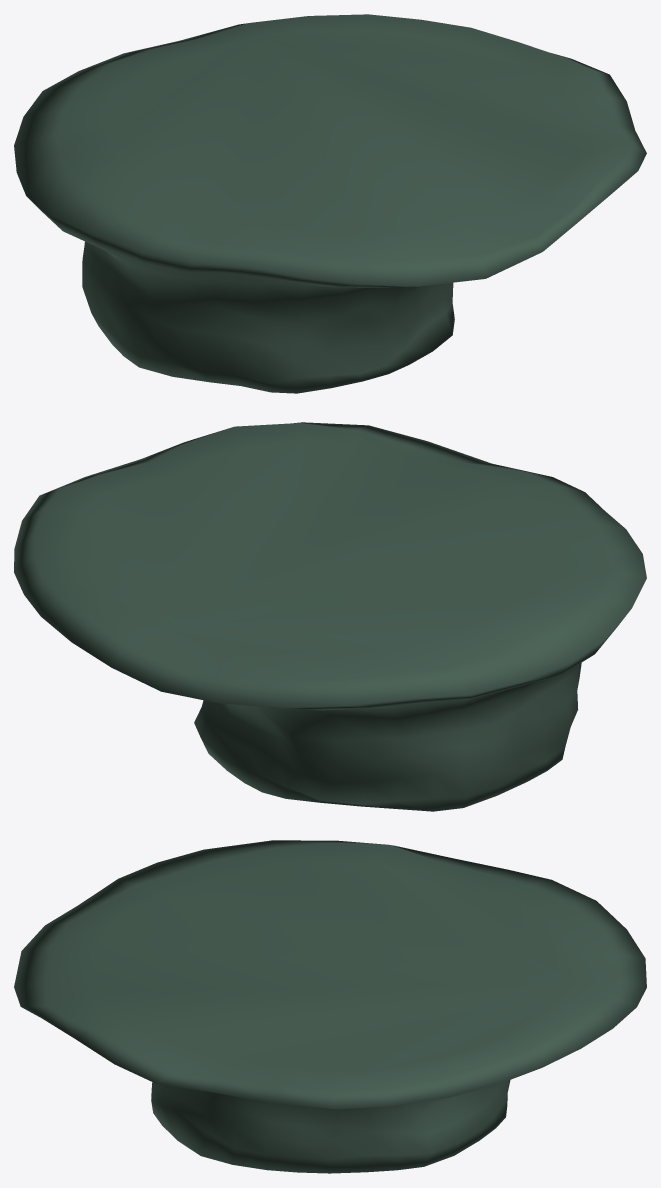
File: Sangosyou.fbx
3 views of the same model, one above another, from view 1: azimuth 30°, elevation 25°; view 2: azimuth 150°, elevation 25°; view 3: azimuth 270°, elevation 25° (orthographic).
Visible parts, largest first — view 1: 円柱; view 2: 円柱; view 3: 円柱.
Part boxes in pixels (x1,y1,x2,y2): 円柱: [14, 14, 646, 393]; 円柱: [14, 422, 646, 811]; 円柱: [14, 840, 646, 1173].
Size of the model in its own units: 351 by 103 by 344.
